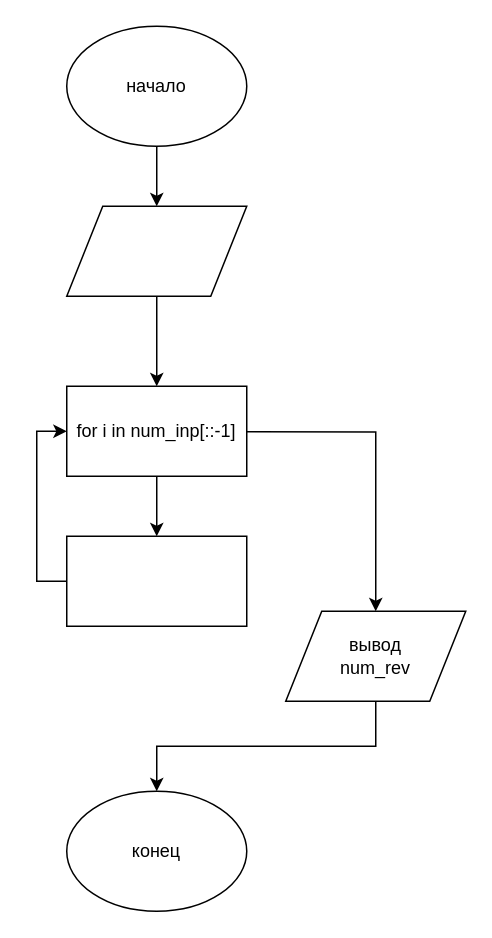
Image size: 492x938. Some labels were removed from this diagram. Each missing label, with the centre of its shape:
"num_rev += i" goes at point (156, 580).
"ввод num_inp" goes at point (156, 250).
